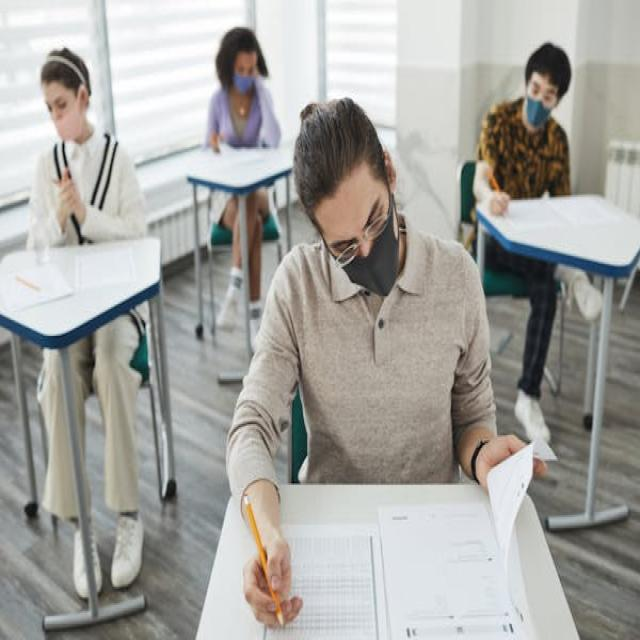mask: (291, 120, 416, 333), (39, 43, 99, 165), (516, 34, 569, 139), (229, 15, 276, 115)
